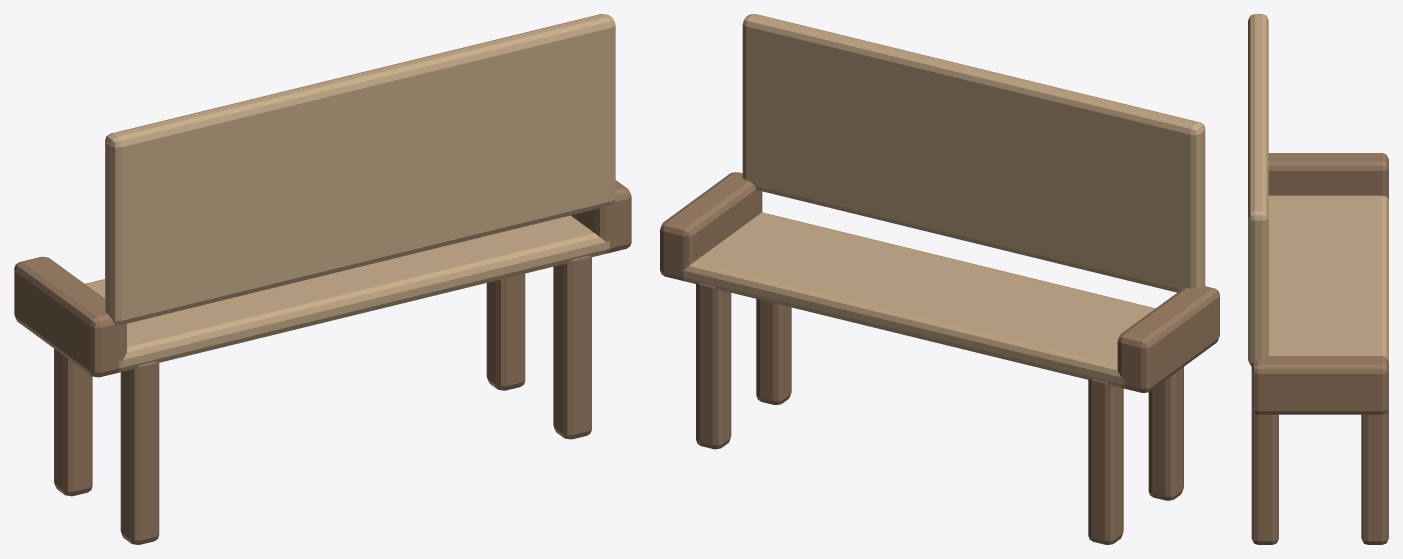
Rendered from chibi_bench.glb.
3 views of the same model, side by side, from view 1: azimuth 30°, elevation 25°; view 2: azimuth 150°, elevation 25°; view 3: azimuth 270°, elevation 25° (orthographic). The views are drawn at different scales.
Parts seen in each view (by area): view 1: ChibiBench; view 2: ChibiBench; view 3: ChibiBench.
Boxes of the visible parts, <box> form: ChibiBench: <box>14,14,631,544</box>; ChibiBench: <box>660,14,1219,544</box>; ChibiBench: <box>1248,14,1388,544</box>.
Bounding box in the file's own units: 1.5 × 1.1 × 0.41.
